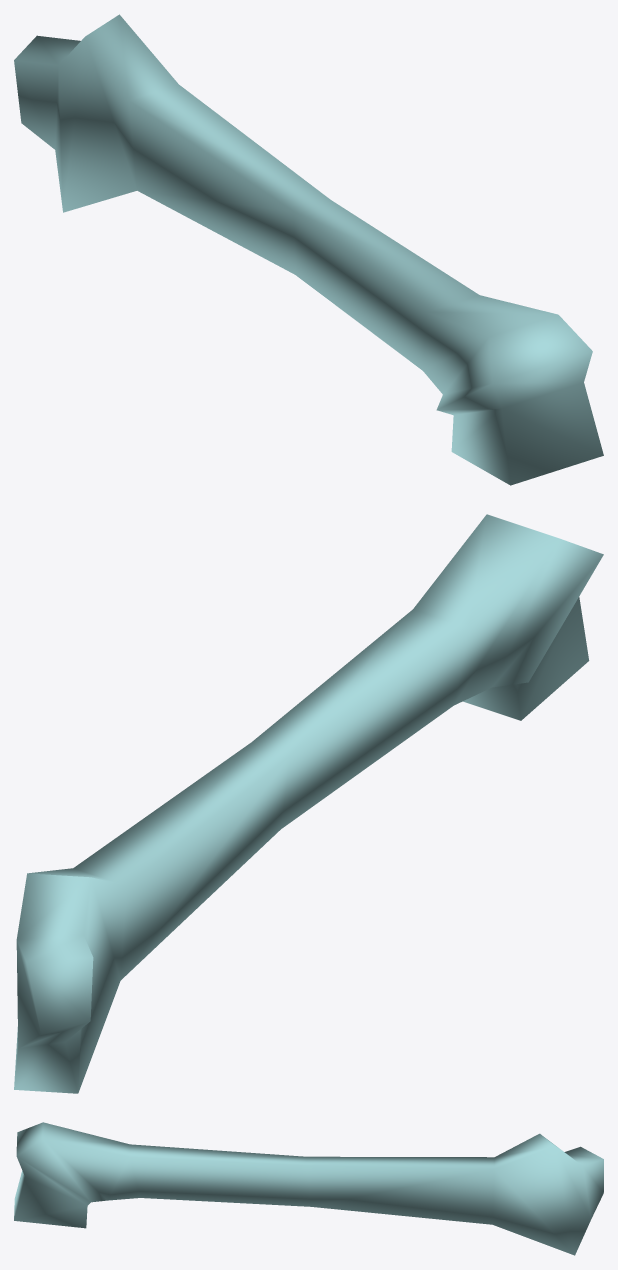
The model's file is skelly_arm_proximal.R.fbx.
3 renders of one model, top to bottom at view 1: azimuth 30°, elevation 25°; view 2: azimuth 150°, elevation 25°; view 3: azimuth 270°, elevation 25°, orthographic. The views are drawn at different scales.
Parts seen in each view (by area): view 1: skelly_arm_proximal.R; view 2: skelly_arm_proximal.R; view 3: skelly_arm_proximal.R.
Part boxes in pixels (x1,y1,x2,y2): skelly_arm_proximal.R: [14, 14, 603, 485]; skelly_arm_proximal.R: [14, 514, 603, 1093]; skelly_arm_proximal.R: [14, 1122, 603, 1255].
Size of the model in its own units: 5.02 by 8.7 by 38.53.
